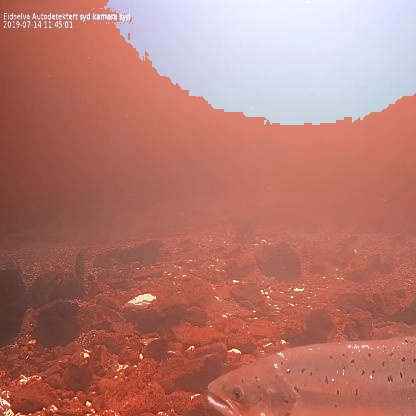salmon: (204, 318, 416, 416)
